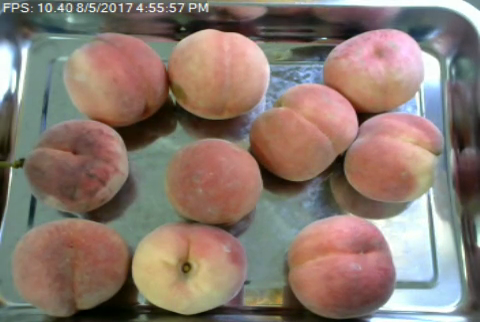Peach: (286, 215, 397, 319), (12, 217, 128, 316), (249, 83, 358, 182), (134, 221, 245, 315), (23, 118, 129, 213), (64, 32, 168, 126), (315, 25, 422, 115), (168, 26, 269, 120), (340, 112, 442, 203), (164, 137, 262, 224)
